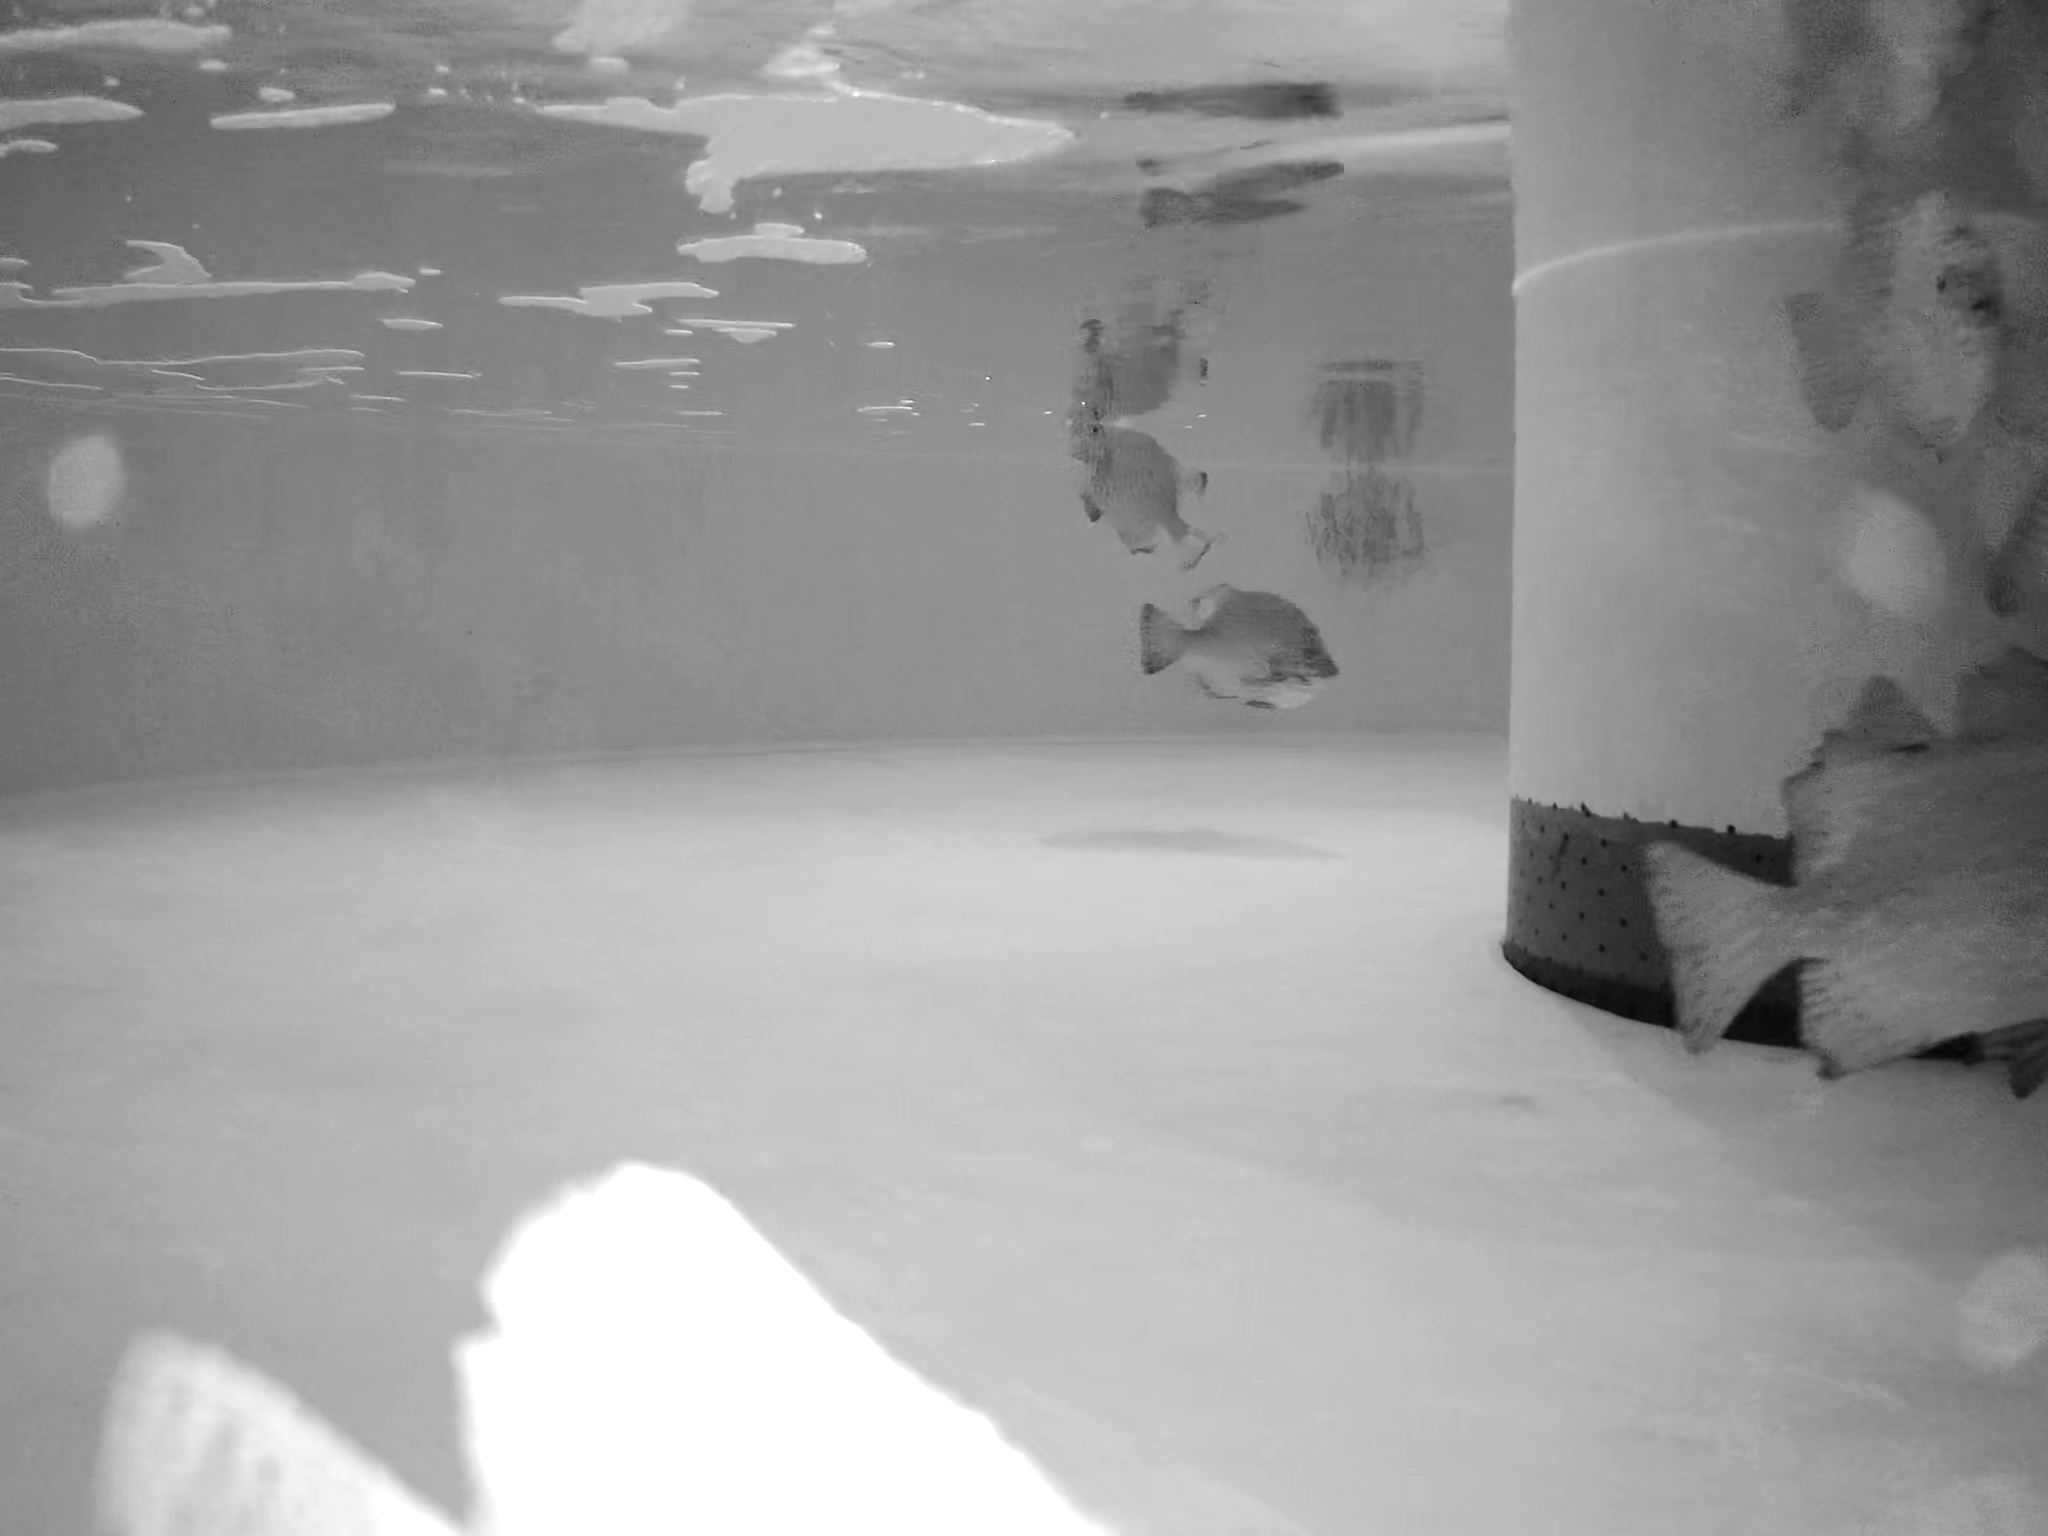fish: (92, 1155, 1135, 1536), (1614, 687, 2048, 1058), (1790, 169, 2048, 468), (1132, 576, 1353, 742), (1072, 416, 1216, 573), (1971, 461, 2048, 626)
